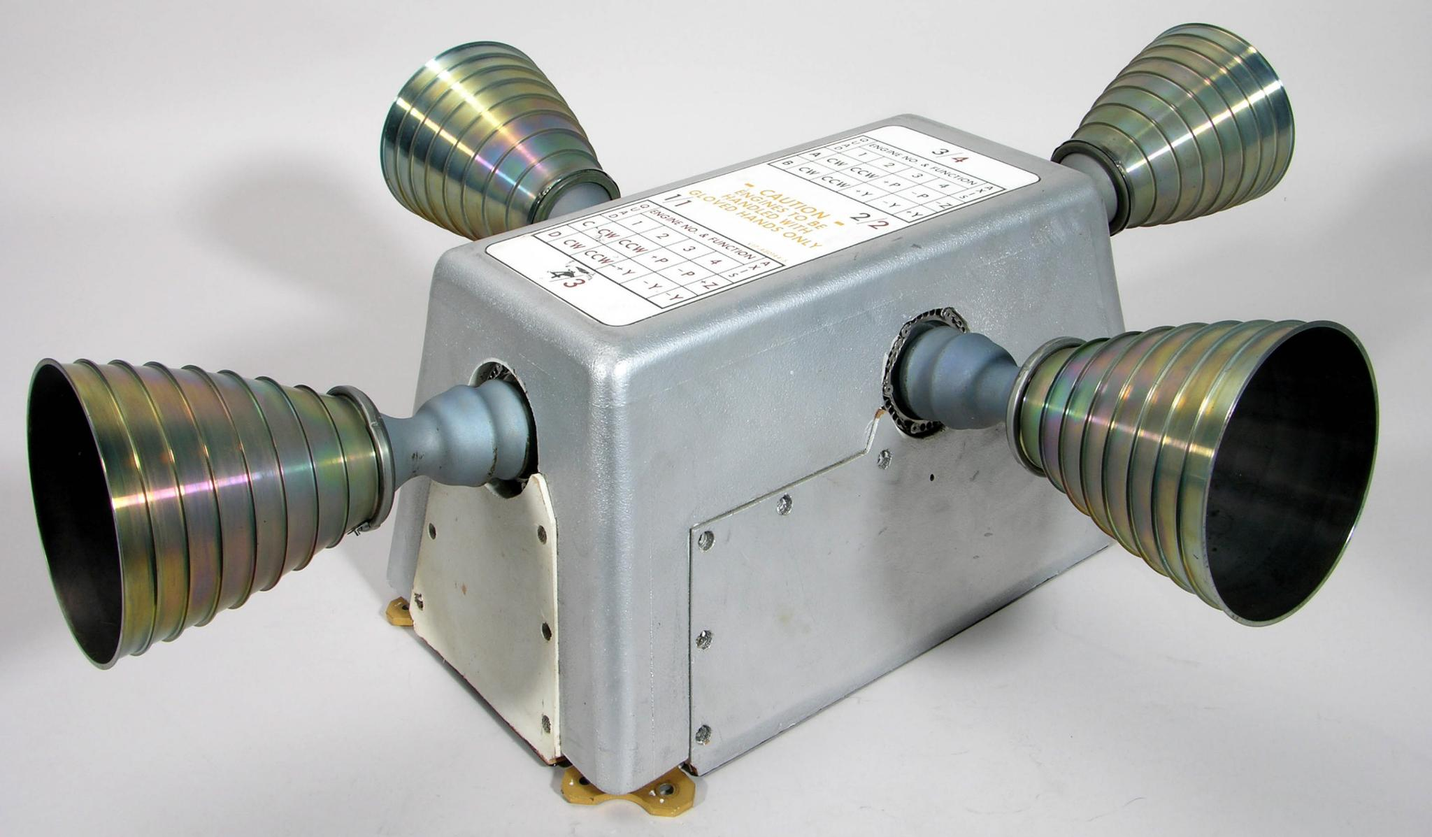thruster: (1003, 315, 1386, 629), (24, 355, 400, 673), (1048, 20, 1298, 239), (378, 38, 623, 244)
